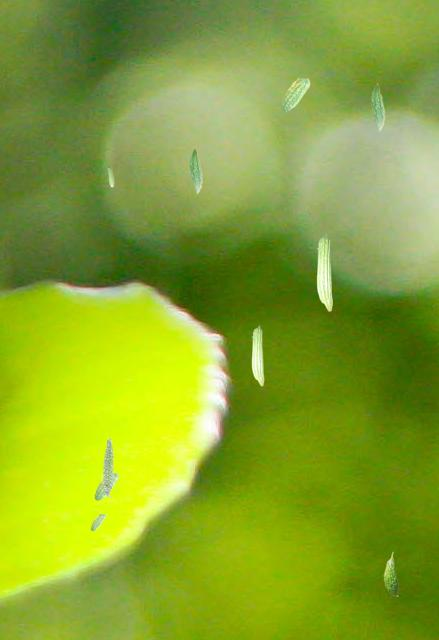ampalaya: (316, 233, 332, 311), (280, 77, 310, 112), (251, 324, 264, 386), (383, 551, 399, 597), (102, 437, 114, 498), (94, 472, 119, 500), (371, 82, 385, 132), (189, 147, 203, 194), (90, 513, 106, 531), (107, 166, 114, 187)
